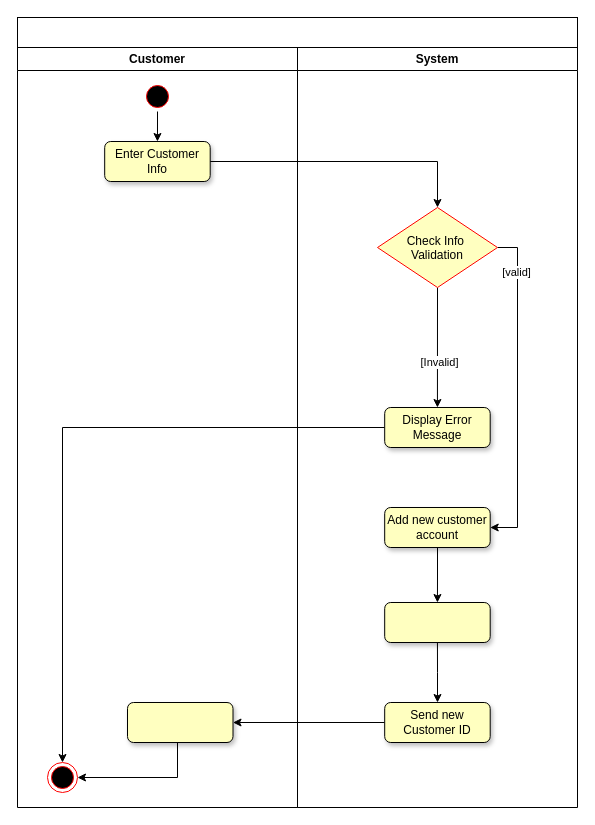
The diagram is 595 pixels wide and 825 high, and some of its shapes have lost their labels. Each missing label, with the centre of its shape:
"Receive Customer ID" belongs at (x=180, y=724).
"Register Customer" belongs at (x=297, y=32).
"Save Changes" belongs at (x=438, y=624).
